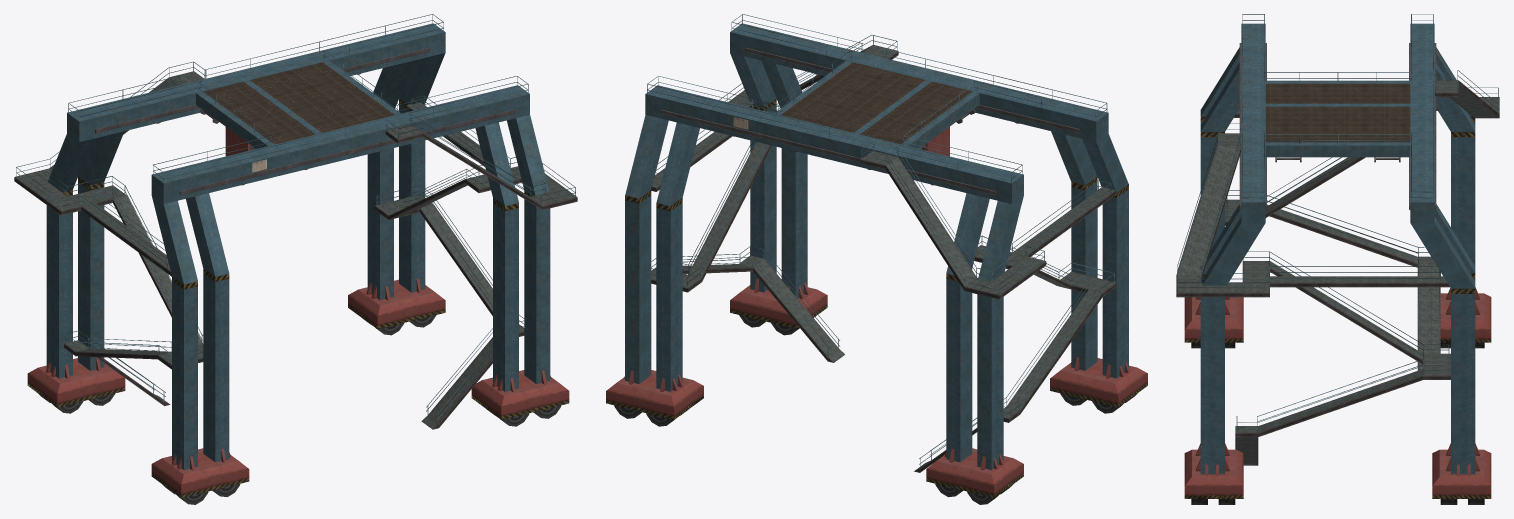
File: Building_Qzj01_lod1.glb
3 views of the same model, side by side, from view 1: azimuth 30°, elevation 25°; view 2: azimuth 150°, elevation 25°; view 3: azimuth 270°, elevation 25° (orthographic).
Parts seen in each view (by area): view 1: xiutz_qzj_01_lod1_0; view 2: xiutz_qzj_01_lod1_0; view 3: xiutz_qzj_01_lod1_0.
Part boxes in pixels (bbox=[...]): xiutz_qzj_01_lod1_0: bbox=[14, 14, 577, 504]; xiutz_qzj_01_lod1_0: bbox=[606, 14, 1147, 504]; xiutz_qzj_01_lod1_0: bbox=[1176, 14, 1499, 504].
Size of the model in its own units: 49.64 by 37.68 by 34.62.
2 materials, 2 textured.
